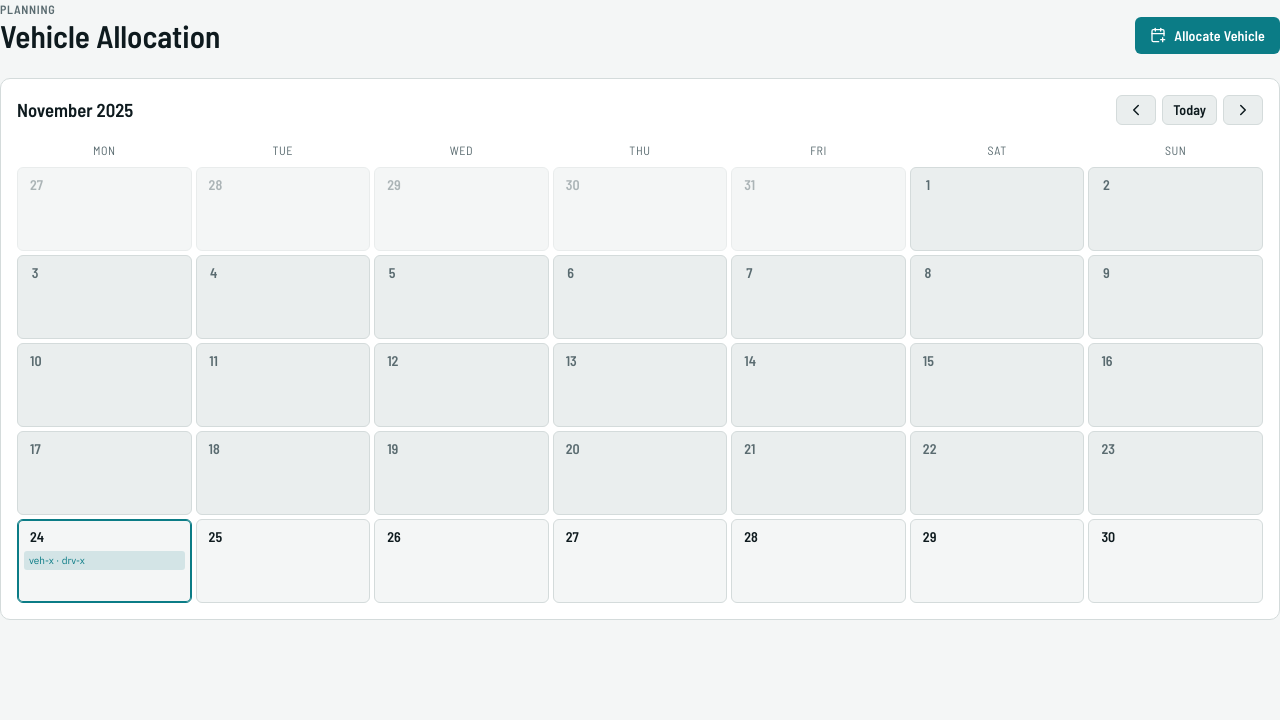
Test: AllocationPage › uses generic names in the remove confirmation when vehicle/driver are unknown
Expected: the button "Allocate Vehicle" is shown, [1135,17,1279,54]
Click the button "veh-x · drv-x". click: [104, 560]
box: [24,551,185,570]
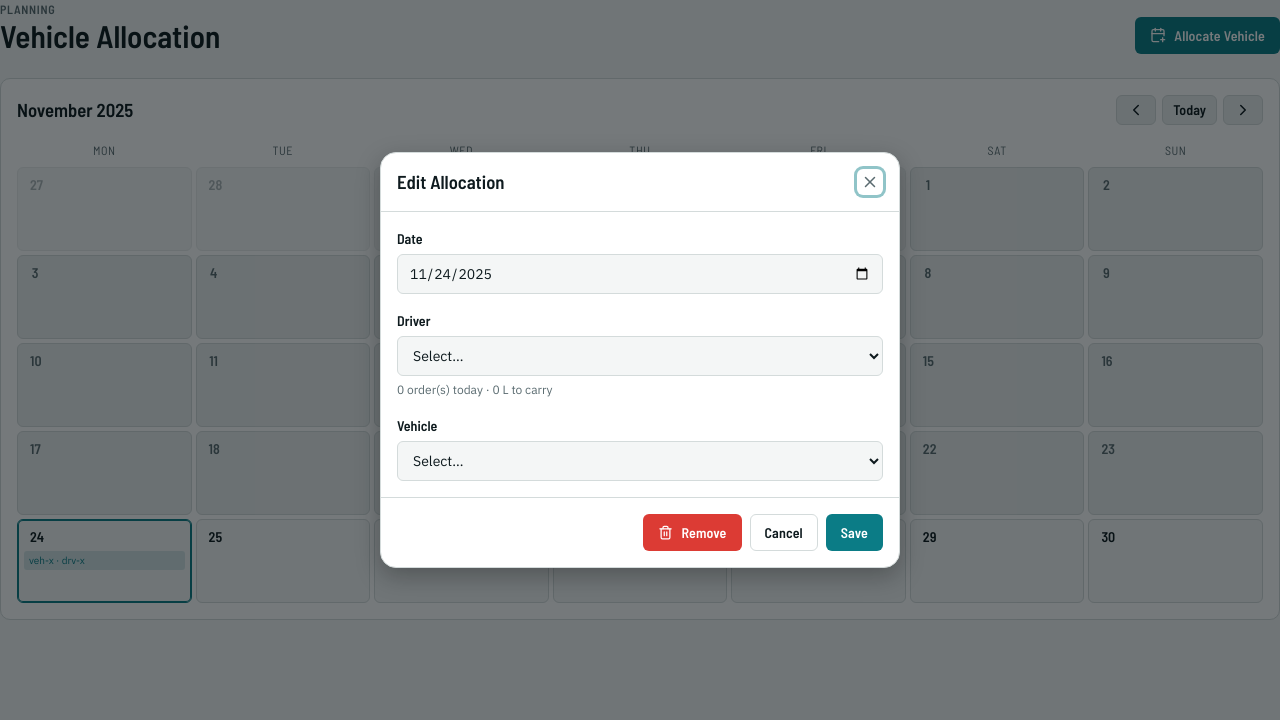
Now the dialog "Edit Allocation" is shown, box [380,152,900,568]
Click the button "Remove". click: [692, 532]
box: [644,514,742,551]
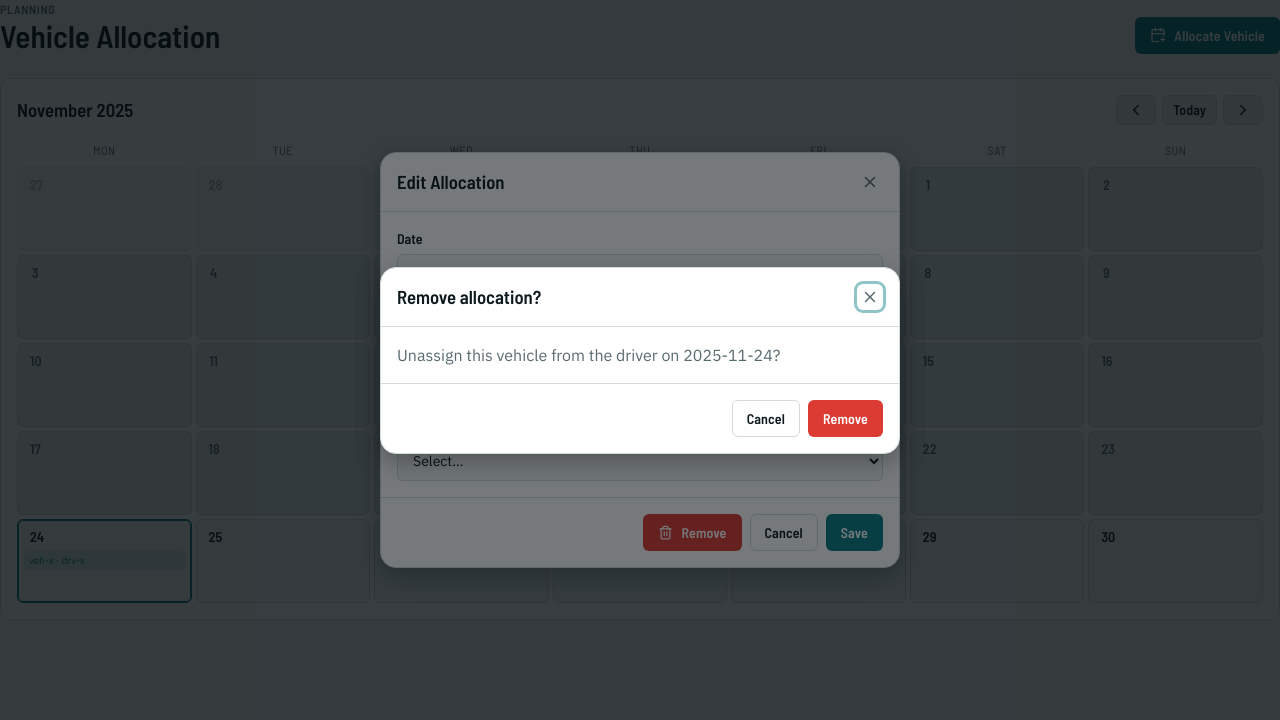
Now the text "Unassign this vehicle from the driver on 2025-11-24?" is shown, box [397,344,780,364]
